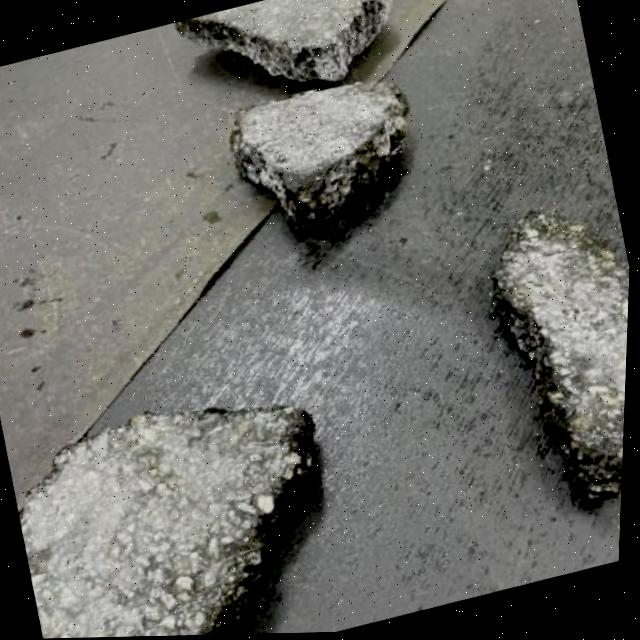Road Debris: (2, 381, 345, 640), (481, 191, 634, 494), (230, 64, 412, 177), (229, 0, 401, 63)
